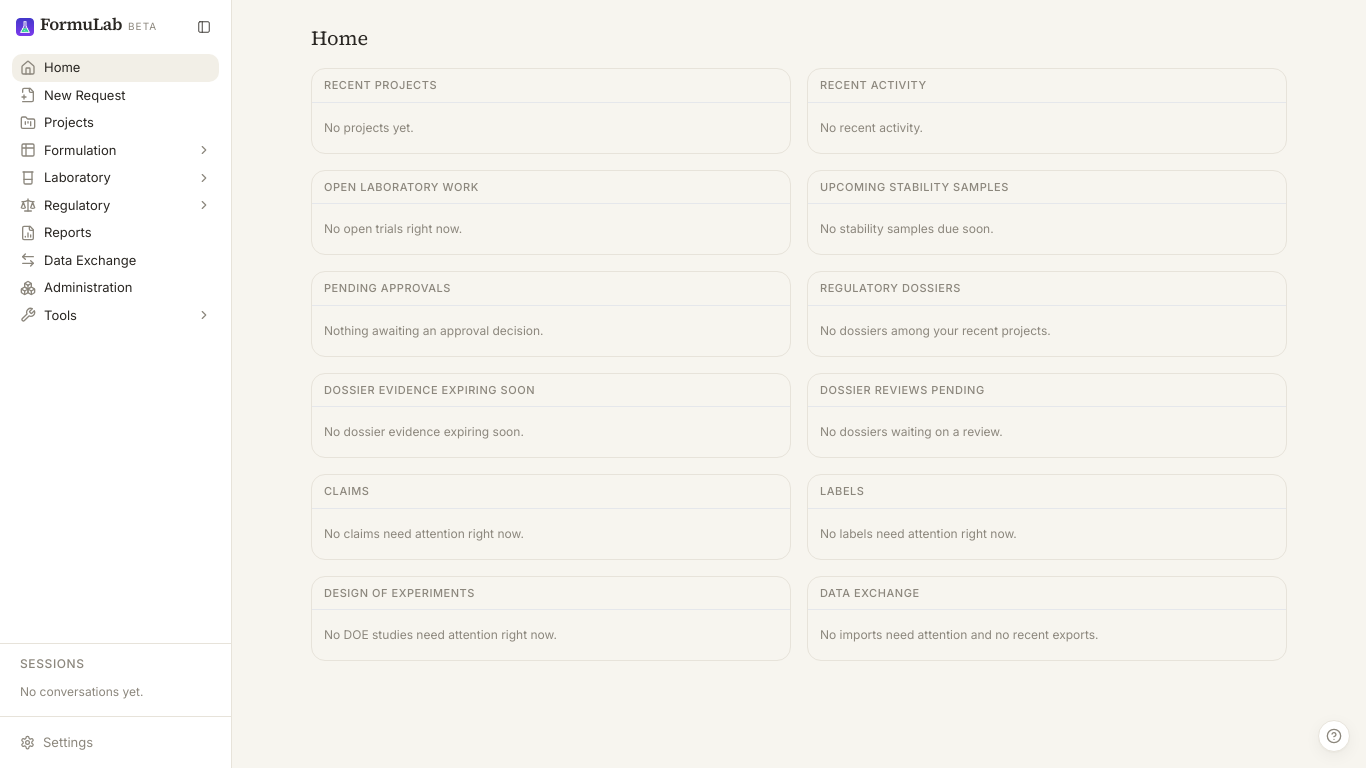
Test: HelpPanel — opening and content › closes on the close button and restores focus to the opener
This screenshot has width=1366, height=768.
Click the button named "Help": (1334, 736) [1318,720,1350,752]
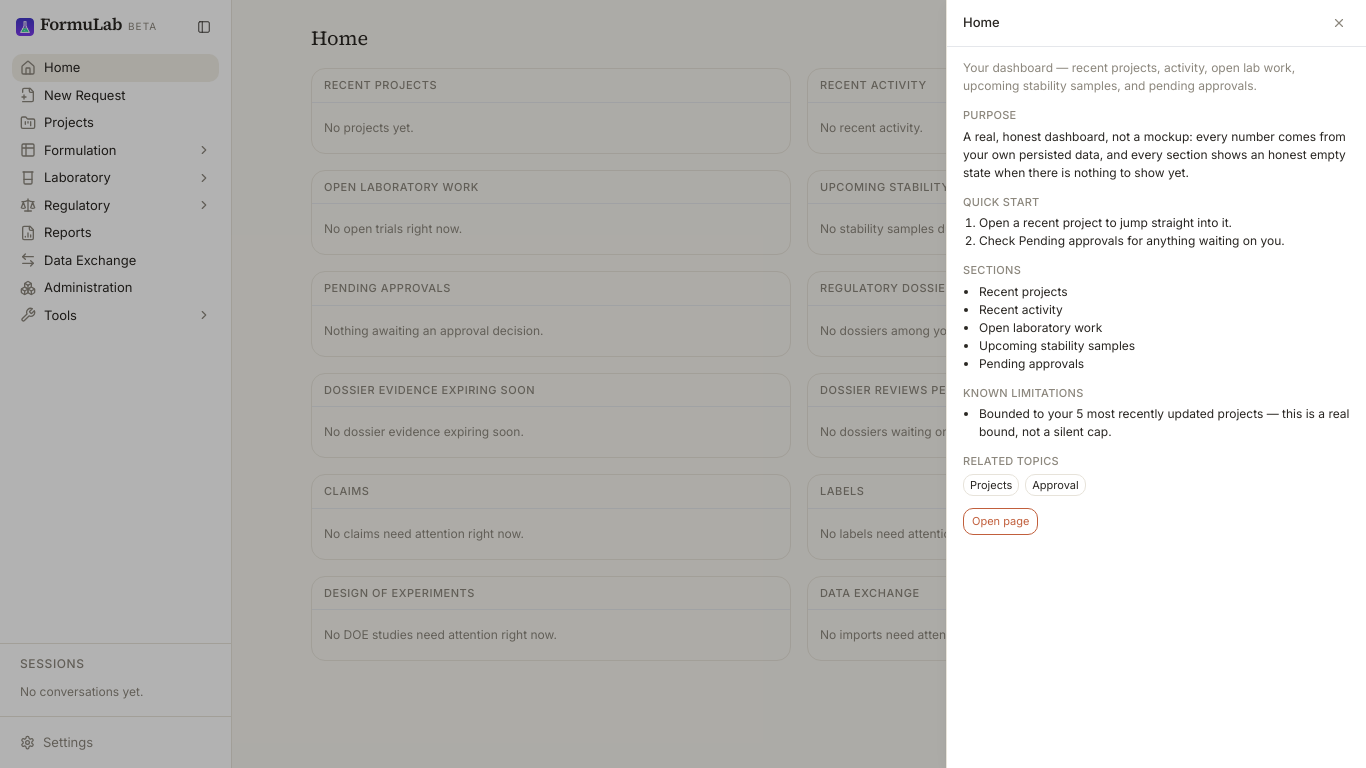
Expected: the dialog is shown, [946,0,1365,767]
Click the button named "Close": (1339, 23) [1328,12,1350,34]
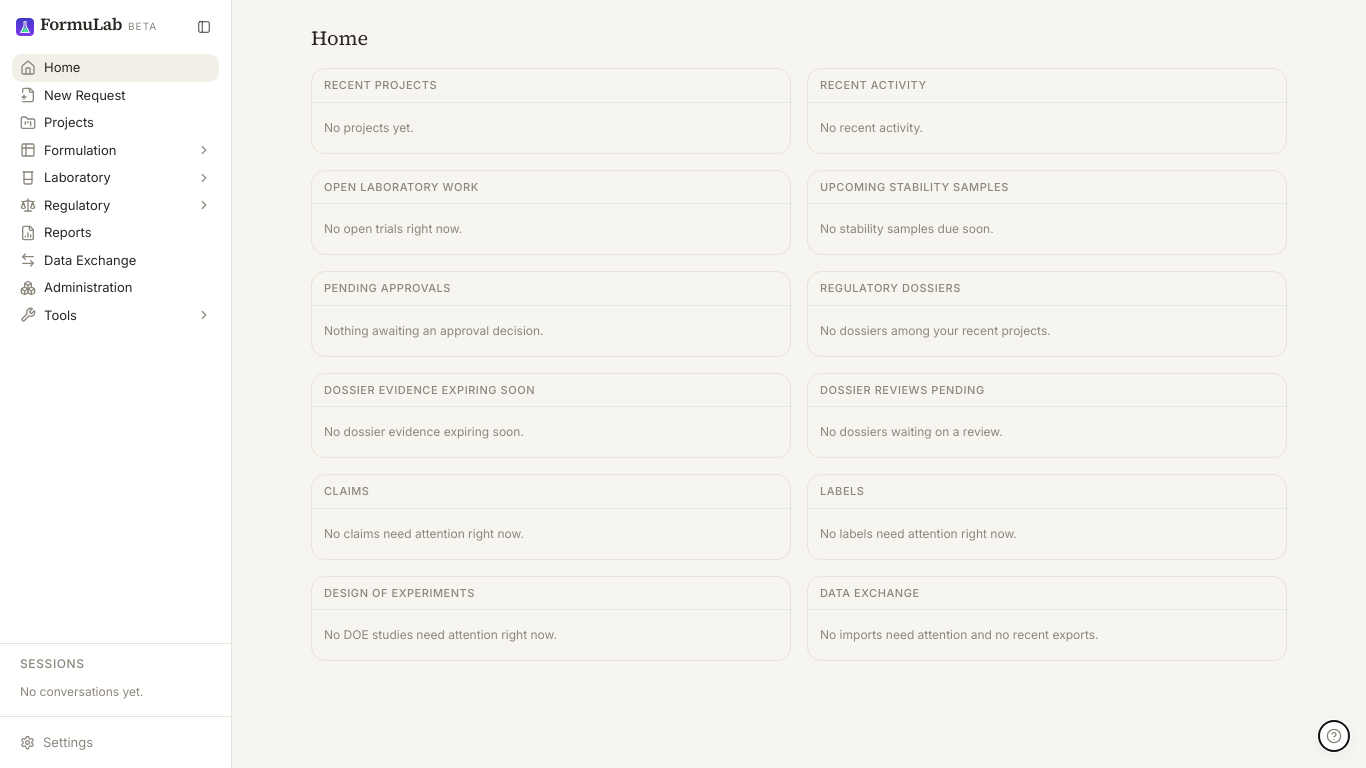
Expected: the dialog is gone
